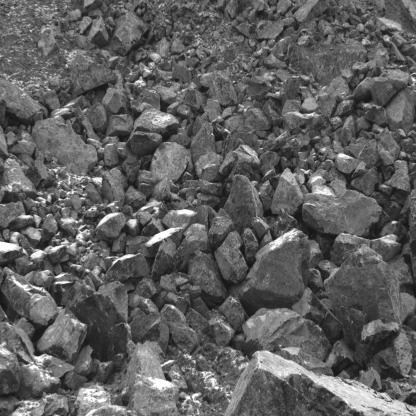stone: (222, 350, 416, 416), (326, 249, 411, 375), (237, 236, 311, 306), (241, 305, 329, 360), (71, 287, 133, 363), (33, 113, 99, 179), (302, 190, 391, 238), (2, 268, 58, 324), (36, 307, 88, 363), (224, 174, 265, 233), (0, 72, 40, 130), (127, 373, 180, 416), (354, 319, 400, 366), (71, 51, 117, 97), (188, 251, 227, 304), (169, 223, 209, 273), (161, 304, 199, 354), (214, 230, 249, 284), (112, 12, 151, 58), (151, 142, 191, 182), (130, 313, 169, 353), (0, 156, 34, 201), (101, 254, 150, 285), (272, 169, 303, 216), (370, 71, 409, 108), (200, 70, 239, 106), (131, 108, 179, 137), (219, 145, 261, 177), (387, 90, 416, 134), (222, 126, 255, 164), (102, 167, 128, 211), (151, 237, 176, 282), (191, 121, 216, 164), (341, 303, 366, 345), (96, 212, 128, 244), (209, 209, 234, 249), (349, 138, 382, 168), (220, 295, 246, 332), (376, 128, 401, 165), (385, 160, 412, 194), (275, 209, 304, 239), (194, 152, 223, 182), (351, 165, 379, 196), (101, 87, 130, 116), (163, 210, 198, 232), (245, 75, 274, 101), (130, 92, 161, 116), (85, 103, 108, 134), (280, 75, 300, 110), (105, 114, 134, 138), (88, 15, 109, 48), (0, 201, 25, 228), (335, 152, 359, 179), (241, 228, 258, 266), (245, 109, 272, 132), (131, 276, 158, 298), (124, 185, 146, 212), (262, 99, 283, 127), (255, 21, 284, 40), (186, 309, 208, 334), (122, 157, 141, 184), (151, 178, 172, 201), (41, 88, 61, 112), (184, 90, 205, 111), (281, 96, 301, 116), (104, 142, 119, 168), (335, 100, 356, 117), (252, 217, 268, 237), (299, 97, 318, 113), (335, 91, 356, 103)
